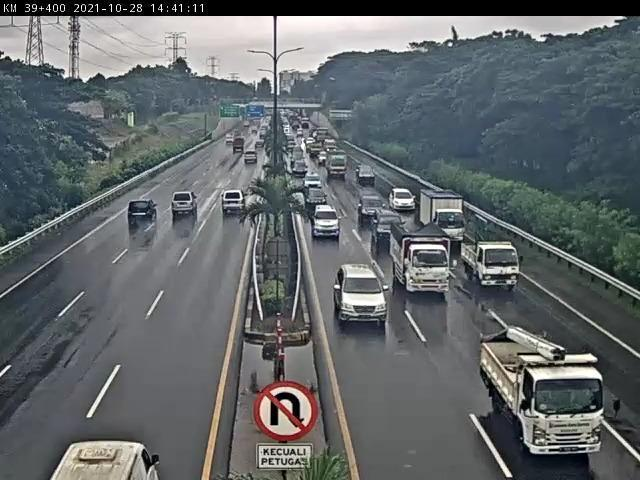car: (333, 265, 389, 326), (371, 208, 405, 243), (310, 203, 342, 240), (357, 194, 387, 222), (389, 188, 417, 211)
truck: (479, 332, 605, 458), (390, 222, 452, 298), (461, 235, 521, 289), (422, 192, 468, 243), (126, 199, 160, 227), (170, 191, 200, 216), (222, 191, 248, 216)
